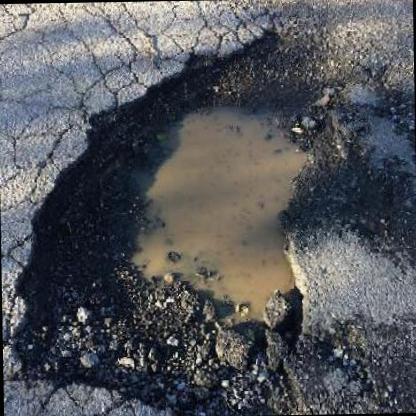pothole: (1, 25, 346, 416)
